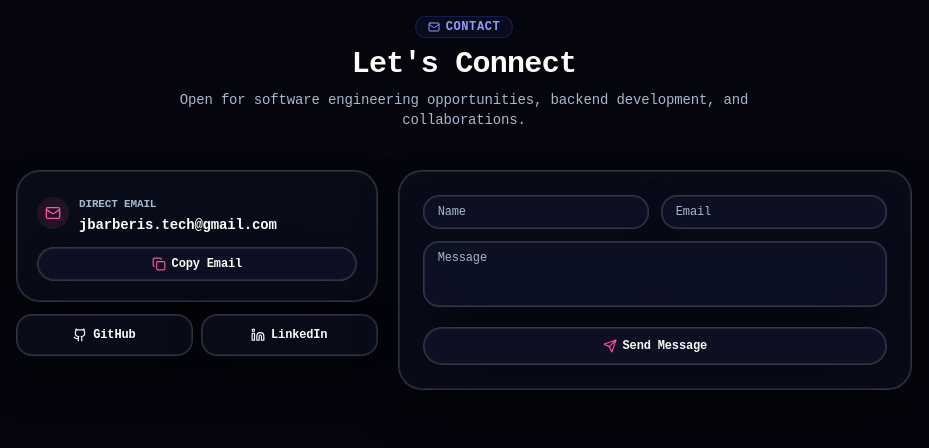
Test: Contact Component (src/components/Contact.tsx) › Form Validation › displays English error messages when language is 'en'
What coordinates should you click on to do the following:
click the button "Send Message"
I would click on:
 (655, 346)
Its box is [423,327,887,365].
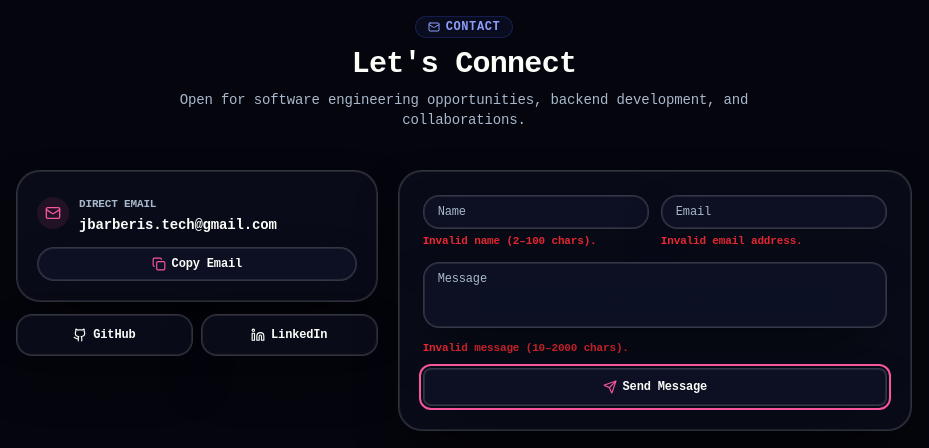
Now the text "Invalid name (2–100 chars)." is shown, box [423,235,597,247]
Now the text "Invalid email address." is shown, box [661,235,802,247]
Now the text "Invalid message (10–2000 chars)." is shown, box [423,342,629,354]
